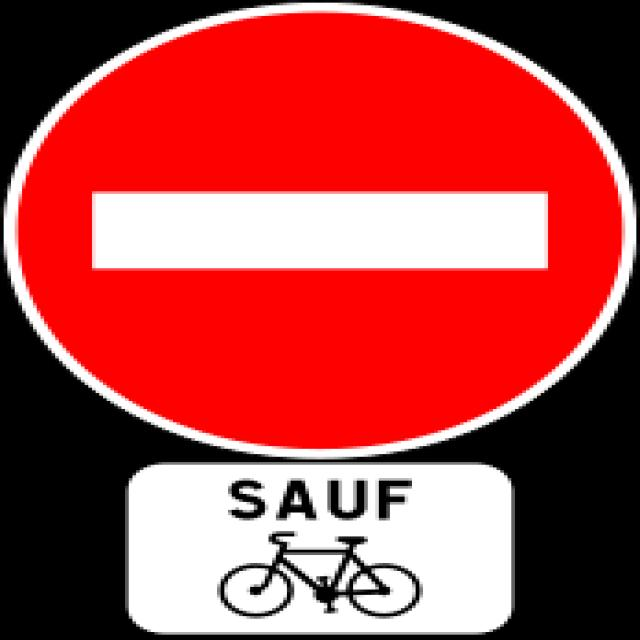forbidden: (4, 3, 640, 458)
